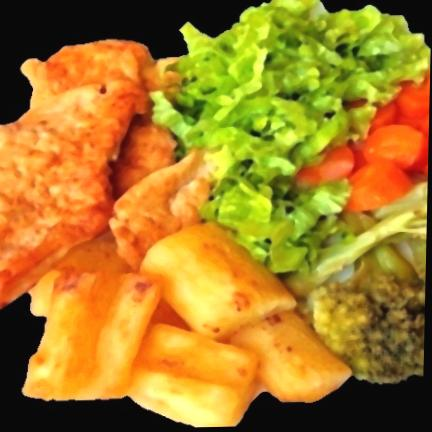broccoli: (307, 273, 426, 383)
carrot: (297, 72, 430, 209)
cassava: (23, 219, 352, 427)
chicken: (0, 40, 174, 308), (109, 153, 208, 268)
salad: (151, 0, 430, 273)
